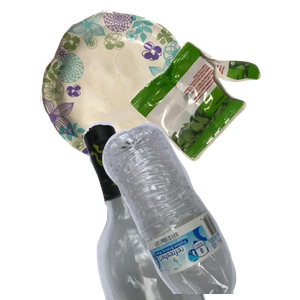glass: (81, 120, 300, 300)
paper: (37, 10, 219, 167)
plastic: (100, 120, 300, 300)
trash: (127, 39, 300, 193)
